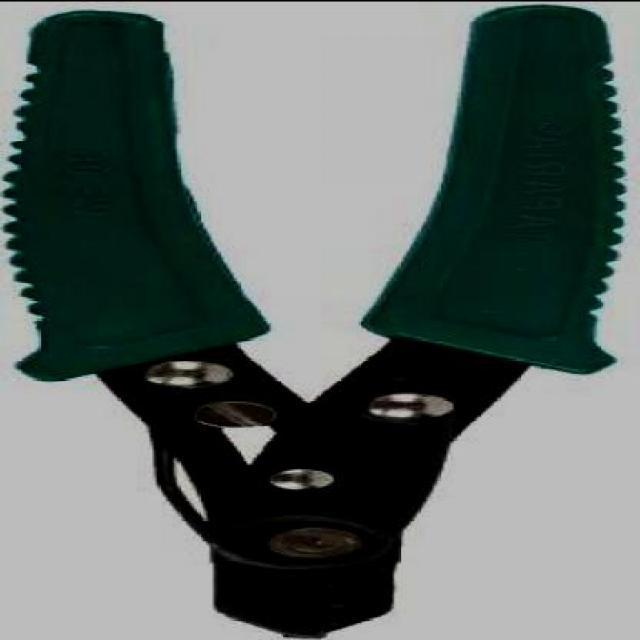pliers: (6, 1, 631, 637)
